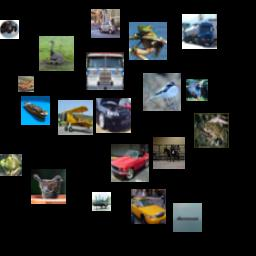airplane: (58, 100, 93, 135), (92, 192, 111, 211)
automobile: (111, 144, 149, 182), (96, 98, 131, 133), (131, 189, 166, 224), (91, 9, 120, 38)
bird: (143, 73, 181, 111), (39, 36, 74, 71), (31, 169, 66, 204), (186, 79, 208, 101)
cat: (0, 20, 19, 39)
frog: (129, 22, 167, 60), (194, 113, 229, 148), (0, 154, 22, 176), (18, 76, 34, 92)
ship: (173, 203, 202, 232), (21, 96, 50, 125)
truck: (86, 52, 124, 90), (182, 14, 217, 49)
